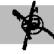not correct: (11, 0, 54, 50)
